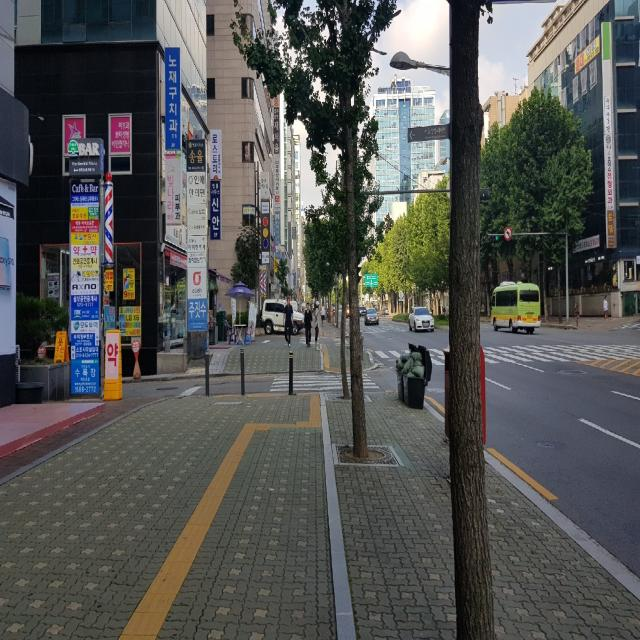횡단보도: (372, 339, 638, 367), (270, 375, 380, 392)
